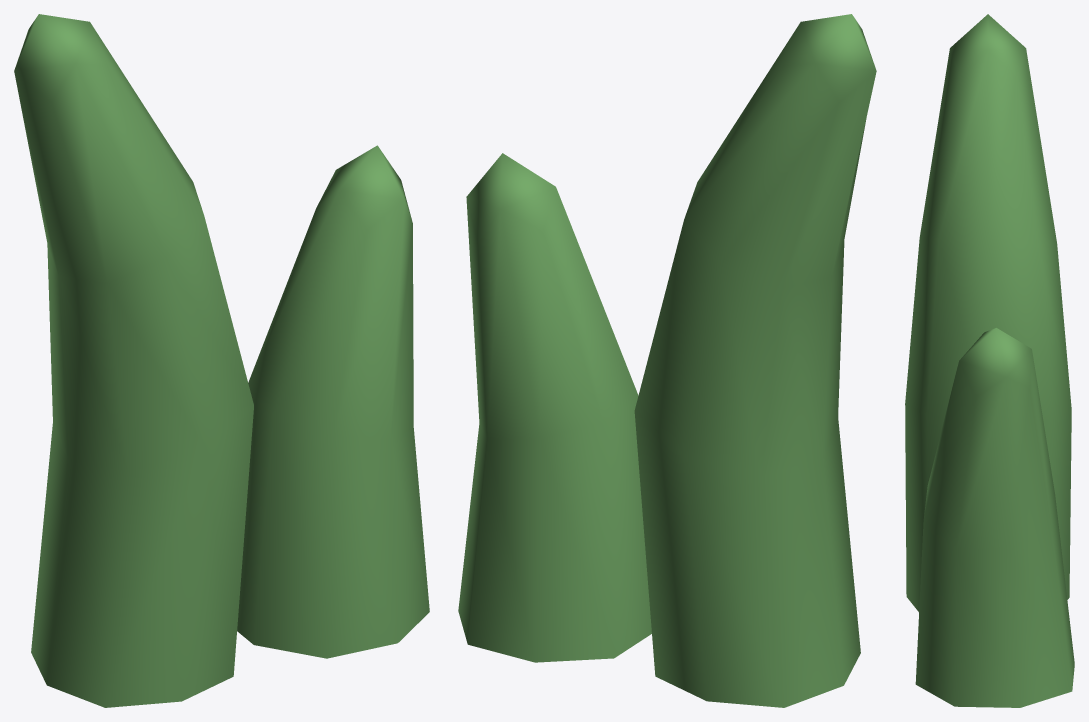
File: grass.fbx
The picture shows the model from 3 angles, left to right: view 1: azimuth 30°, elevation 25°; view 2: azimuth 150°, elevation 25°; view 3: azimuth 270°, elevation 25°; orthographic projection. The views are drawn at different scales.
Visible parts, largest first — view 1: grass; view 2: grass; view 3: grass.
Boxes of the visible parts, <box> form: grass: <box>14,14,429,707</box>; grass: <box>458,14,876,707</box>; grass: <box>905,14,1074,707</box>.
Size of the model in its own units: 44.6 by 72.01 by 20.28.
